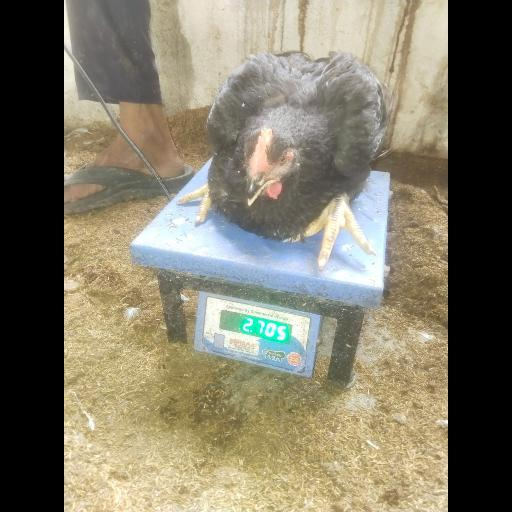chick: (179, 50, 386, 268)
